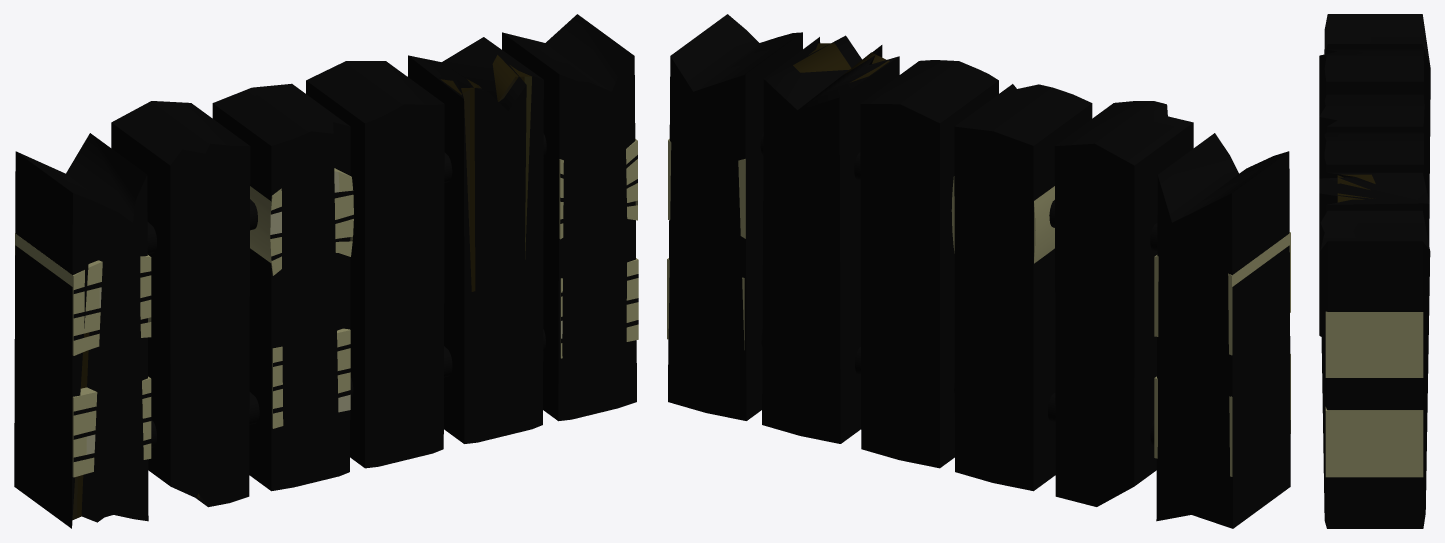
Rendered from Fence working.FBX.
3 views of the same model, side by side, from view 1: azimuth 30°, elevation 25°; view 2: azimuth 150°, elevation 25°; view 3: azimuth 270°, elevation 25° (orthographic). The views are drawn at different scales.
Visible parts, largest first — view 1: Fence; view 2: Fence; view 3: Fence.
Boxes of the visible parts, x1,y1,x2,y2 form: Fence: (14, 14, 638, 528); Fence: (667, 14, 1290, 528); Fence: (1319, 14, 1430, 528).
Bounding box in the file's own units: 19.05 × 11.69 × 3.92.
